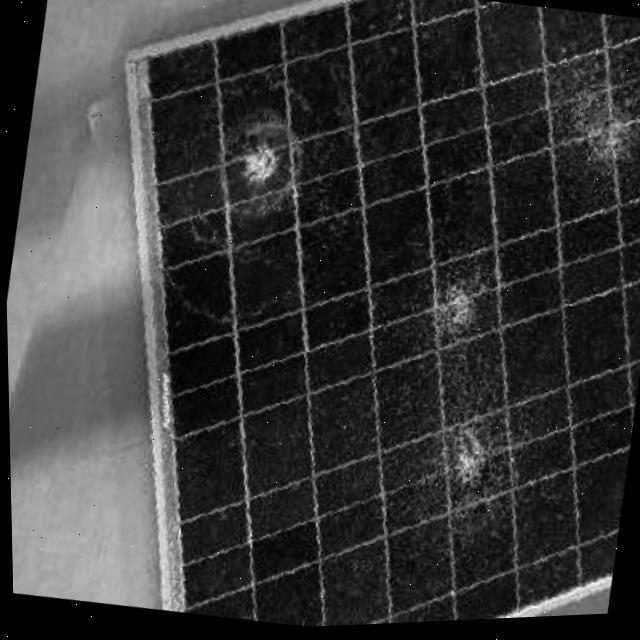Anomaly Solar Panel: (130, 0, 640, 630)
Structural Damage: (356, 222, 559, 563), (173, 80, 341, 304), (507, 27, 640, 216)
